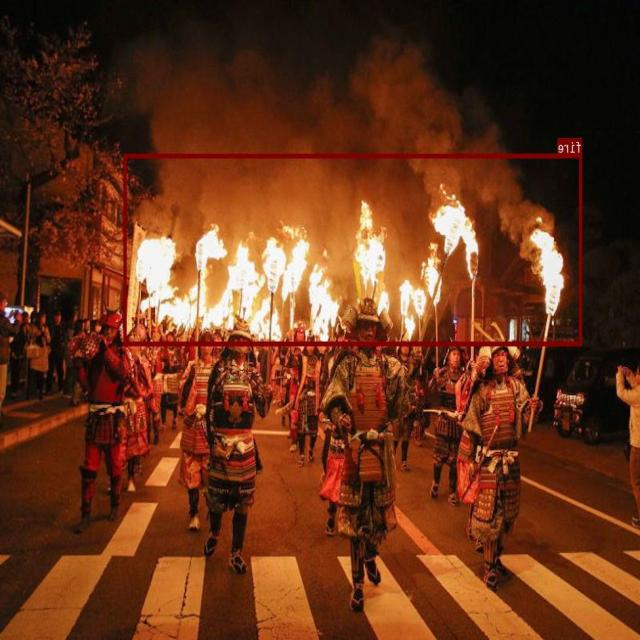fire: (125, 154, 582, 345)
